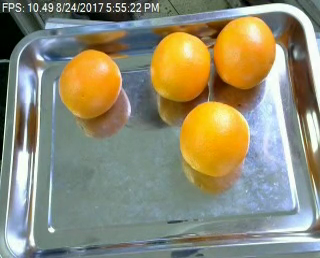Orange: (180, 102, 250, 177), (214, 15, 277, 89), (58, 48, 123, 118), (150, 31, 211, 102)
